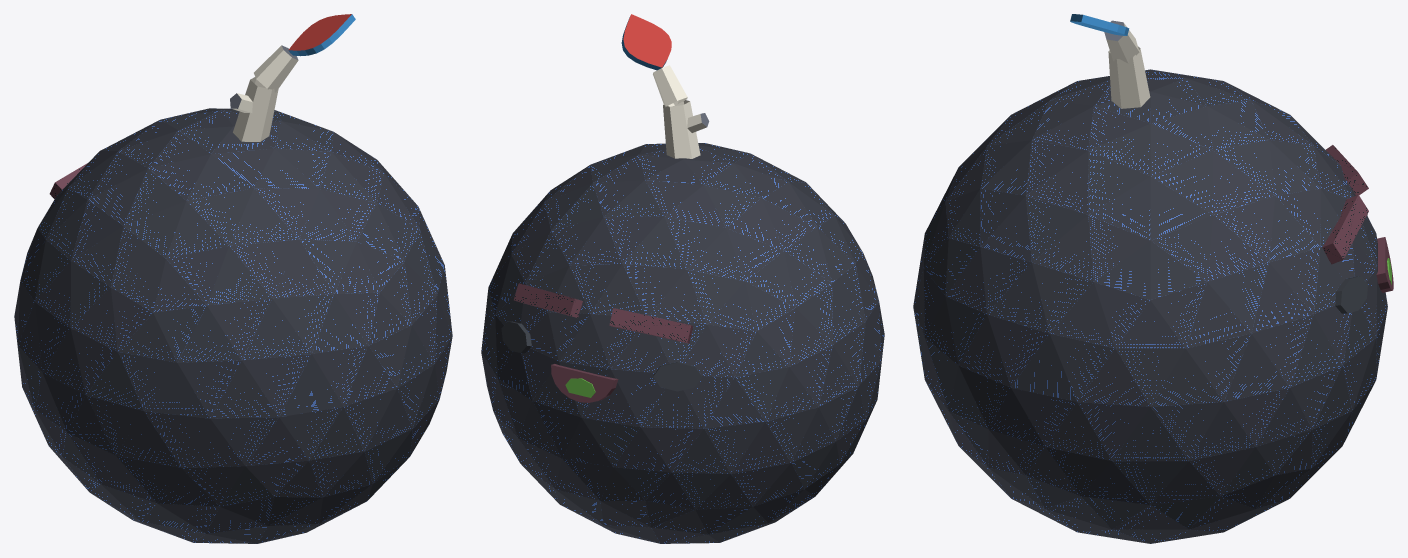
File: CH_Dalcik_T1_Blink.fbx
The picture shows the model from 3 angles, left to right: view 1: azimuth 30°, elevation 25°; view 2: azimuth 150°, elevation 25°; view 3: azimuth 270°, elevation 25°; orthographic projection. The views are drawn at different scales.
Parts seen in each view (by area): view 1: CH_Dalcik_T1_Blink; view 2: CH_Dalcik_T1_Blink; view 3: CH_Dalcik_T1_Blink.
Boxes of the visible parts, x1,y1,x2,y2 form: CH_Dalcik_T1_Blink: [14, 14, 452, 543]; CH_Dalcik_T1_Blink: [481, 14, 884, 543]; CH_Dalcik_T1_Blink: [913, 14, 1393, 543].
Bounding box in the file's own units: 1 × 1.29 × 1.01.
